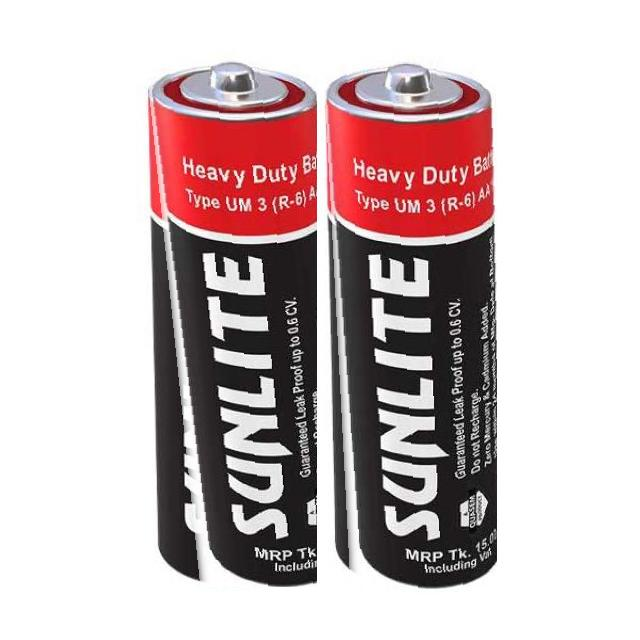battery: (323, 56, 498, 595), (145, 53, 317, 587)
